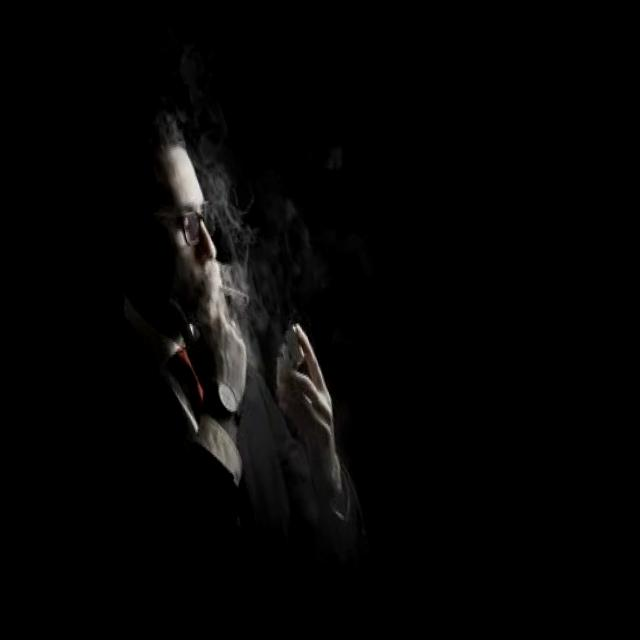smoke: (214, 272, 254, 316)
